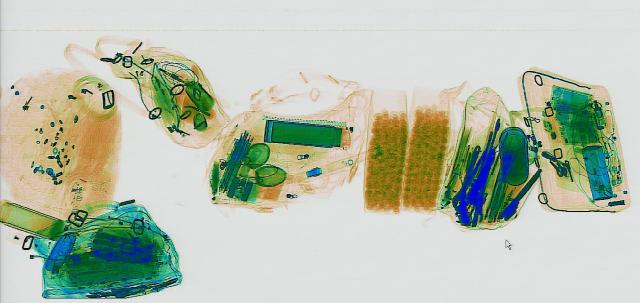Wrench: (448, 143, 488, 208)
